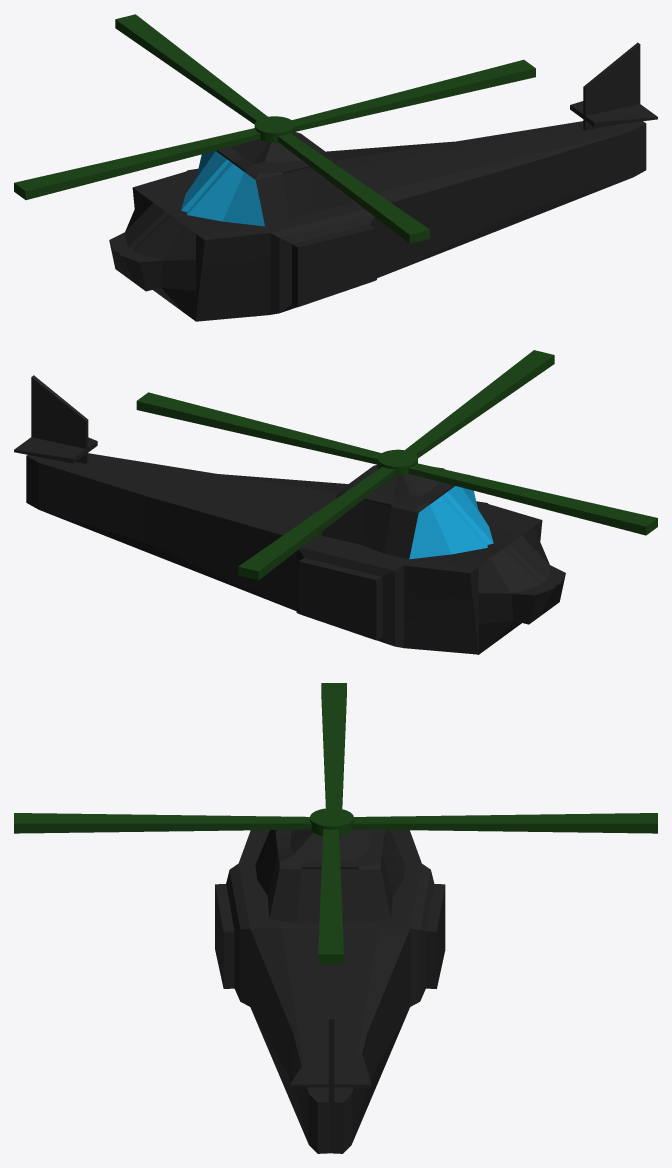
Rendered from helicopter.obj.
The picture shows the model from 3 angles, top to bottom: view 1: azimuth 30°, elevation 25°; view 2: azimuth 150°, elevation 25°; view 3: azimuth 270°, elevation 25°; orthographic projection. The views are drawn at different scales.
Parts seen in each view (by area): view 1: Body, Propellor; view 2: Body, Propellor; view 3: Body, Propellor.
Boxes of the visible parts, x1,y1,x2,y2 form: Body: [109, 42, 657, 321]; Propellor: [14, 14, 535, 243]; Body: [14, 375, 565, 654]; Propellor: [136, 350, 657, 580]; Body: [215, 829, 445, 1153]; Propellor: [14, 683, 657, 964].
Size of the model in its own units: 4.14 by 1.05 by 3.41.
